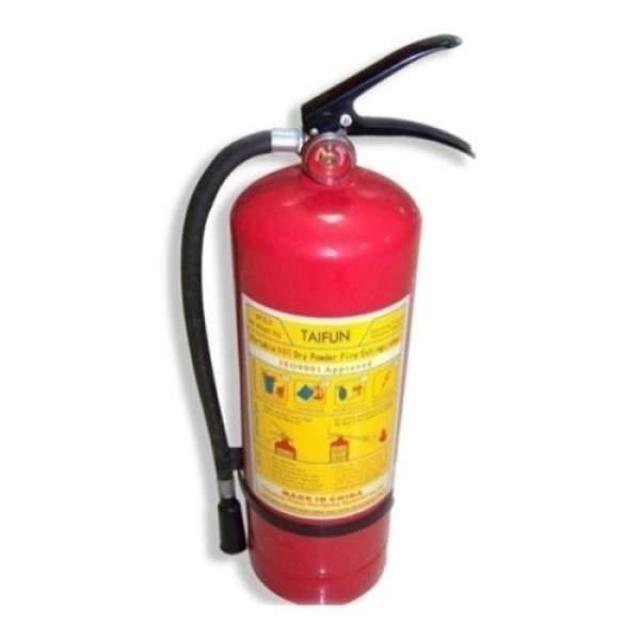fire_extinguisher: (174, 27, 478, 611)
